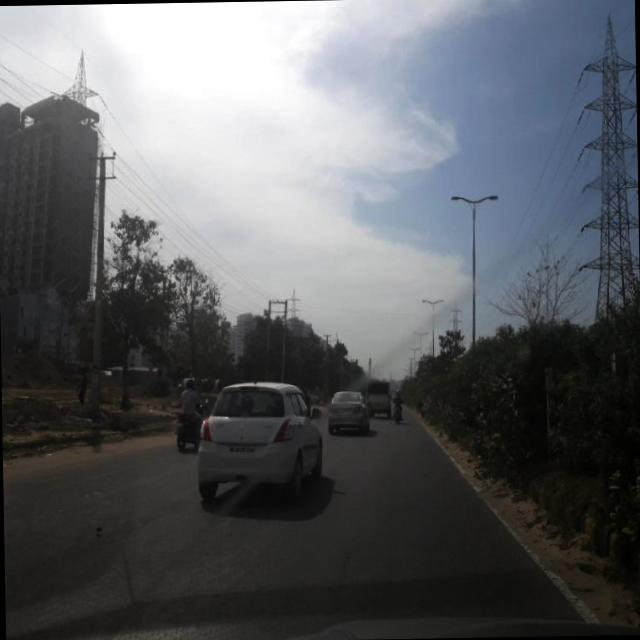crack: (172, 479, 560, 627)
pothole: (322, 518, 361, 618)
